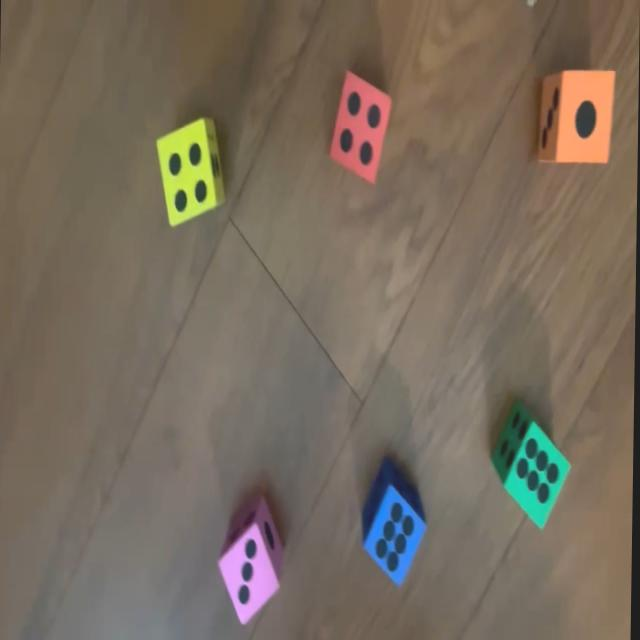cube: (491, 406, 572, 533), (362, 461, 428, 583), (329, 72, 390, 186)
